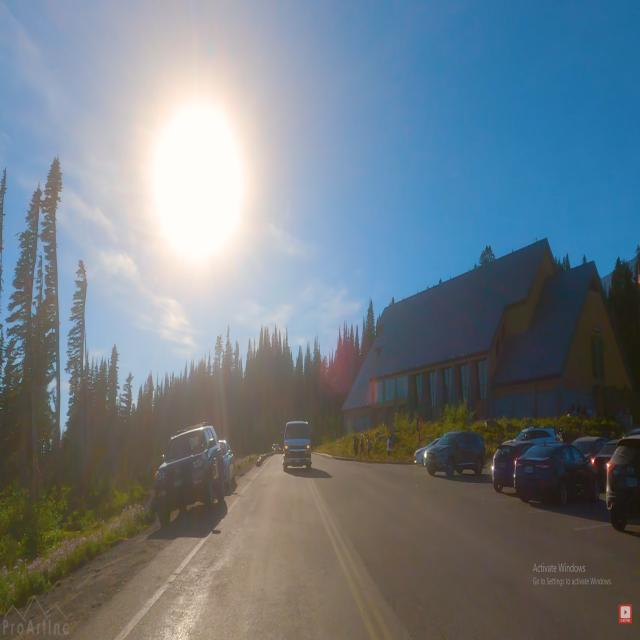sun: (119, 50, 272, 310)
